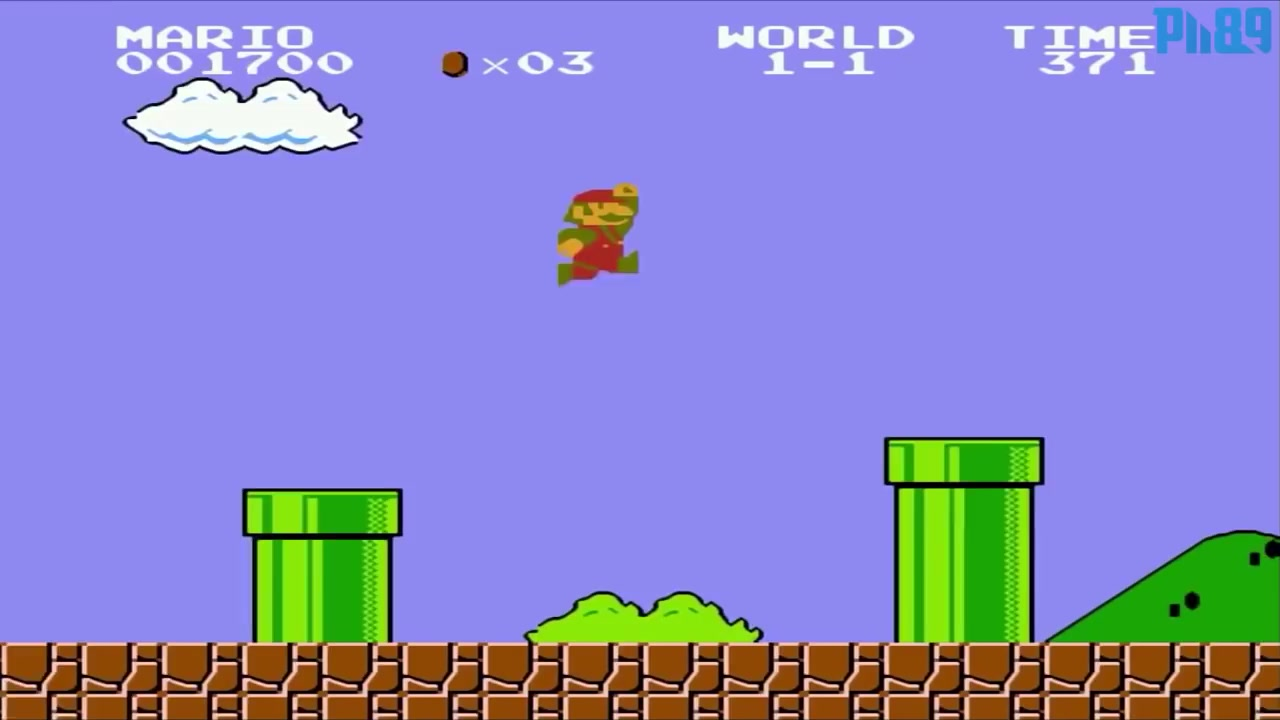mario: (549, 173, 648, 301)
